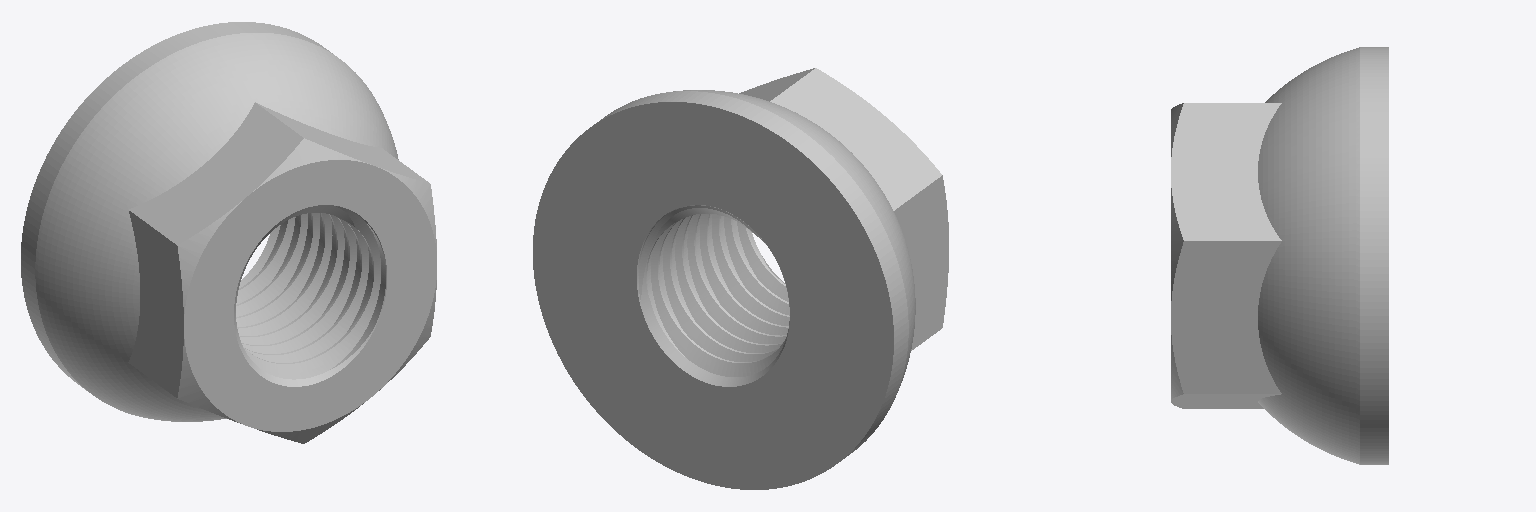
Rendered from model7_nut.obj.
3 views of the same model, side by side, from view 1: azimuth 30°, elevation 25°; view 2: azimuth 150°, elevation 25°; view 3: azimuth 270°, elevation 25° (orthographic).
Parts seen in each view (by area): view 1: Cut-Extrude9; view 2: Cut-Extrude9; view 3: Cut-Extrude9.
Part boxes in pixels (x1,y1,x2,y2): Cut-Extrude9: (21, 22, 436, 443); Cut-Extrude9: (533, 68, 948, 489); Cut-Extrude9: (1171, 47, 1388, 464).
Bounding box in the file's own units: 1.69 × 1.68 × 0.8819.